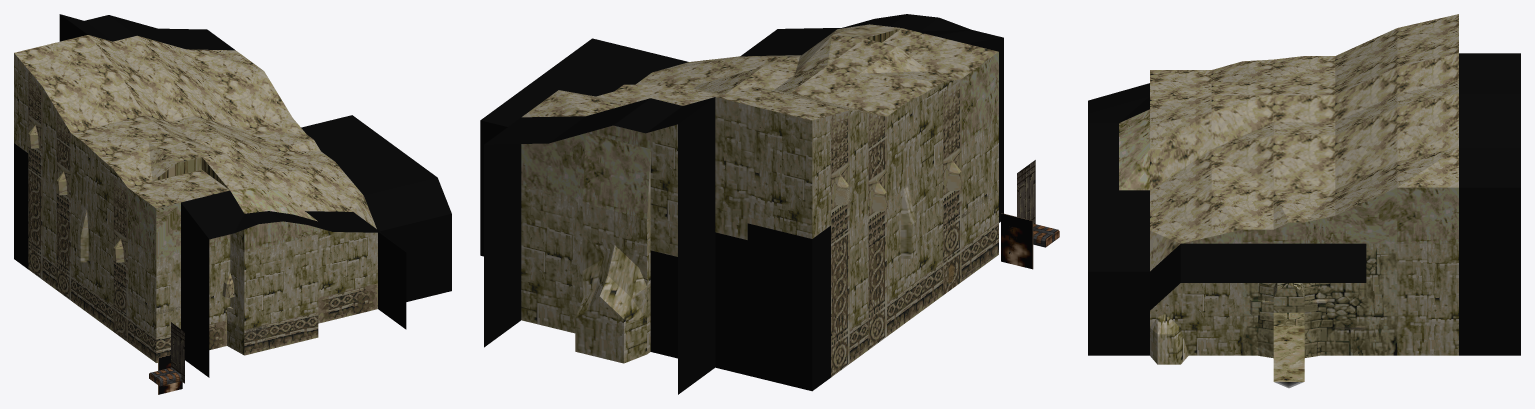
Rendered from MAP018.obj.
3 renders of one model, left to right at view 1: azimuth 30°, elevation 25°; view 2: azimuth 150°, elevation 25°; view 3: azimuth 270°, elevation 25°, orthographic. The views are drawn at different scales.
Visible parts, largest first — view 1: mesh_35, mesh_33, mesh_29, mesh_77, mesh_32, mesh_76, mesh_53, mesh_78, mesh_72, mesh_75, mesh_51, mesh_89 (+17 smaller); view 2: mesh_75, mesh_54, mesh_35, mesh_33, mesh_21, mesh_57, mesh_38, mesh_32, mesh_76, mesh_58, mesh_51, mesh_73 (+12 smaller); view 3: mesh_35, mesh_75, mesh_78, mesh_26, mesh_76, mesh_24, mesh_23, mesh_60, mesh_73, mesh_61, mesh_28, mesh_74 (+8 smaller).
Part boxes in pixels (x1,y1,x2,y2): mesh_35: (14, 35, 376, 228); mesh_33: (14, 104, 156, 311); mesh_29: (156, 228, 377, 324); mesh_77: (364, 177, 451, 301); mesh_32: (28, 110, 127, 320); mesh_76: (301, 115, 437, 195); mesh_53: (181, 196, 233, 377); mesh_78: (205, 190, 406, 329); mesh_72: (244, 234, 318, 317); mesh_75: (59, 14, 235, 50); mesh_51: (28, 218, 156, 362); mesh_89: (156, 292, 293, 354); mesh_75: (484, 97, 715, 394); mesh_54: (650, 223, 830, 391); mesh_35: (522, 24, 998, 120); mesh_33: (812, 79, 998, 329); mesh_21: (521, 124, 812, 333); mesh_57: (650, 97, 812, 232); mesh_38: (575, 203, 650, 363); mesh_32: (831, 79, 961, 336); mesh_76: (480, 38, 688, 256); mesh_58: (582, 125, 650, 218); mesh_51: (831, 221, 998, 377); mesh_73: (795, 24, 928, 74); mesh_35: (1150, 14, 1458, 271); mesh_75: (1459, 53, 1520, 355); mesh_78: (1088, 96, 1149, 355); mesh_26: (1150, 243, 1458, 355); mesh_76: (1180, 243, 1366, 282); mesh_24: (1242, 283, 1335, 358); mesh_23: (1182, 188, 1427, 243); mesh_60: (1366, 187, 1458, 243); mesh_73: (1150, 82, 1273, 125); mesh_61: (1397, 243, 1458, 299); mesh_28: (1335, 286, 1397, 355); mesh_74: (1119, 109, 1149, 190).
Size of the model in its own units: 165 by 112 by 179.
Materials: 22 (22 with a texture image).
